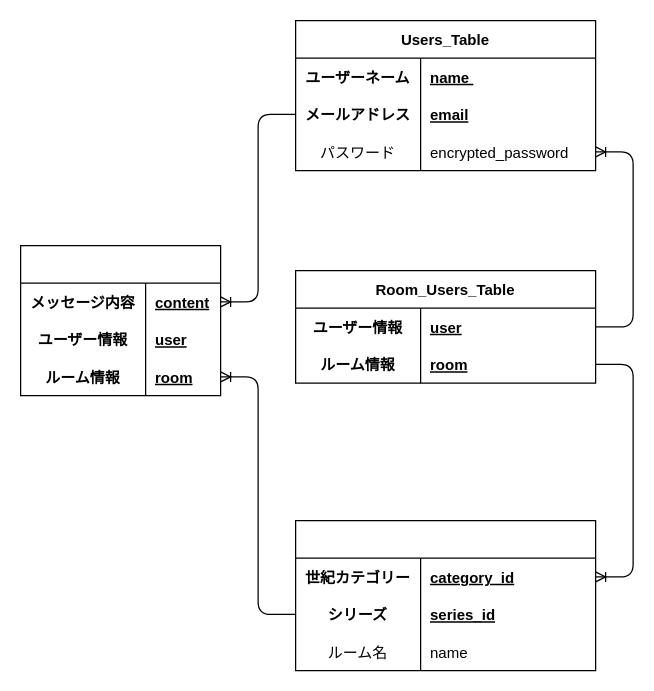
This 654x691 diagram has some shape labels left out. The box of each missing label's shape, as (x1, y1, x2, y2) in pixels:
Message_Table: (19, 244, 221, 396)
Rooms_Table: (294, 519, 596, 671)
